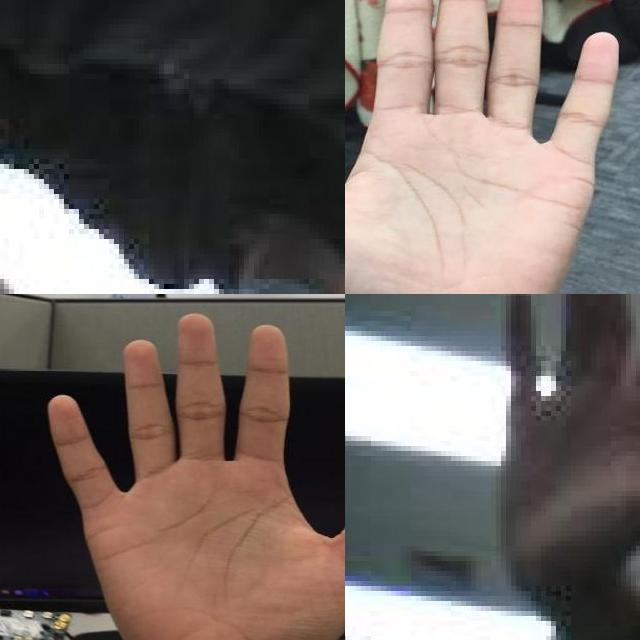no-gloves: (46, 313, 345, 640), (345, 0, 621, 294), (496, 294, 640, 591)
